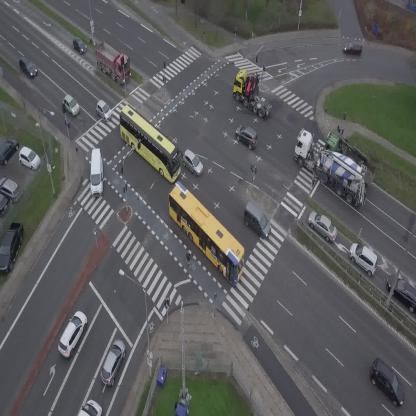bicycle: (182, 251, 193, 272)
bus: (153, 180, 259, 287), (107, 103, 193, 184)
car: (363, 358, 414, 408), (53, 308, 92, 359), (97, 337, 130, 388), (344, 239, 385, 278), (236, 201, 277, 240), (303, 207, 343, 244), (231, 120, 264, 152), (177, 149, 208, 178), (58, 93, 83, 118), (91, 99, 116, 123), (16, 54, 39, 79), (68, 34, 89, 57), (343, 41, 363, 56)
lorry: (281, 125, 383, 212), (322, 128, 382, 188), (224, 63, 286, 121), (86, 36, 140, 87), (91, 148, 103, 196), (78, 399, 102, 416)
